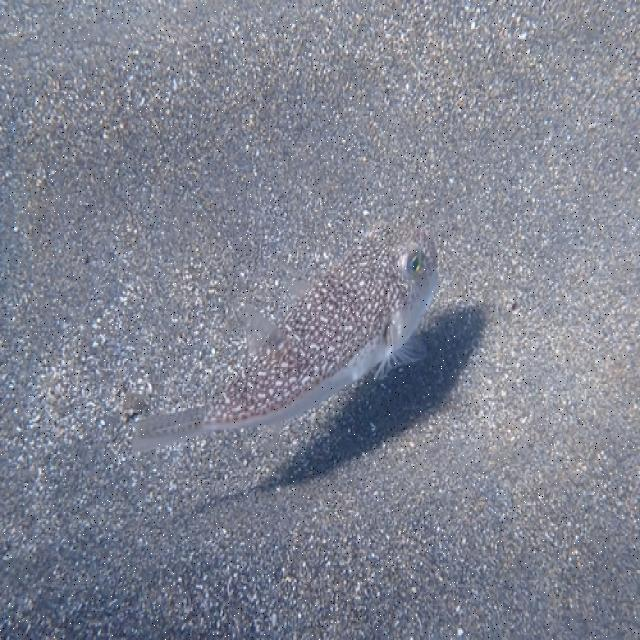Balik: (134, 224, 437, 450)
